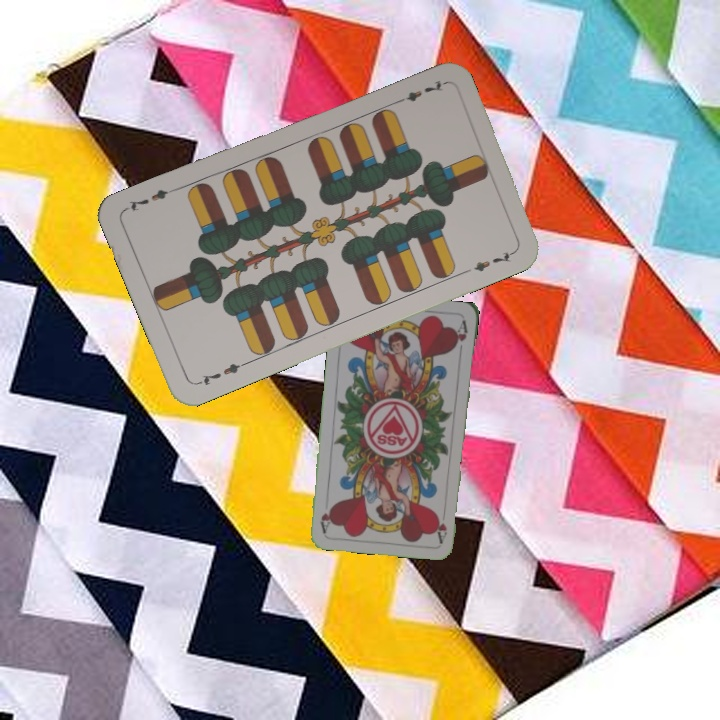E7: (390, 76, 447, 107), (192, 358, 249, 388)
HA: (433, 504, 450, 545)
